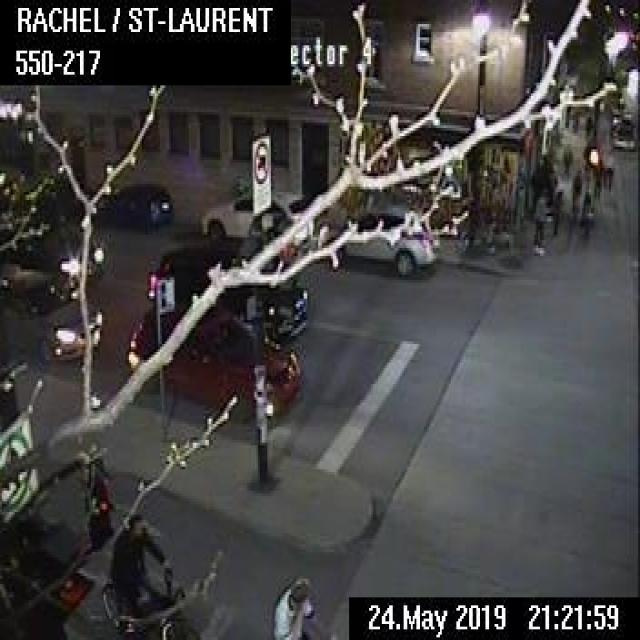cyclist: (100, 510, 223, 638), (267, 576, 335, 637)
pedestrian: (529, 190, 544, 253), (569, 170, 581, 216), (580, 188, 591, 234), (551, 190, 561, 232), (561, 144, 571, 179)
vehicle: (126, 302, 300, 419), (144, 243, 308, 341), (0, 266, 107, 365), (0, 192, 104, 285), (312, 206, 442, 276), (198, 189, 315, 248), (90, 181, 175, 231), (610, 119, 635, 150)
